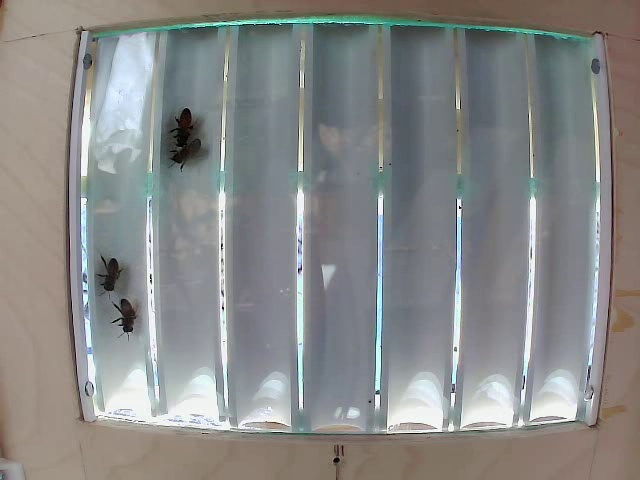bee: (102, 302, 153, 346), (96, 252, 134, 296), (169, 105, 200, 148), (179, 129, 206, 177)
